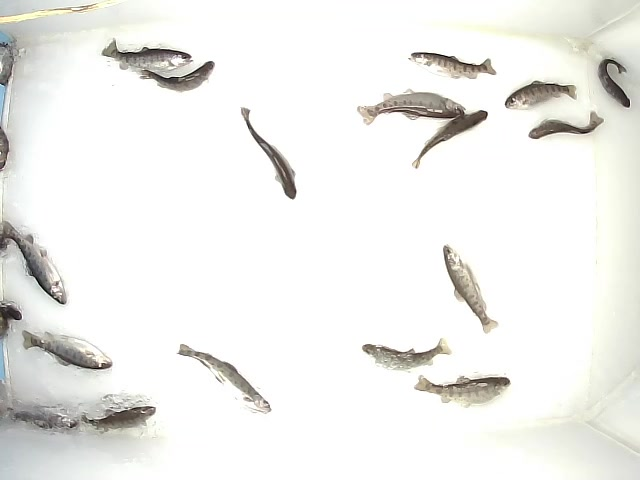fish: (174, 342, 272, 416), (2, 219, 68, 307), (238, 106, 298, 202), (442, 241, 503, 335), (410, 109, 487, 170), (357, 87, 466, 126), (23, 328, 114, 373), (362, 337, 453, 373), (414, 374, 510, 408), (100, 37, 196, 70), (5, 401, 80, 437), (138, 59, 215, 94), (504, 79, 578, 113), (408, 52, 497, 80), (528, 110, 606, 141), (81, 404, 156, 436), (596, 58, 632, 109)
